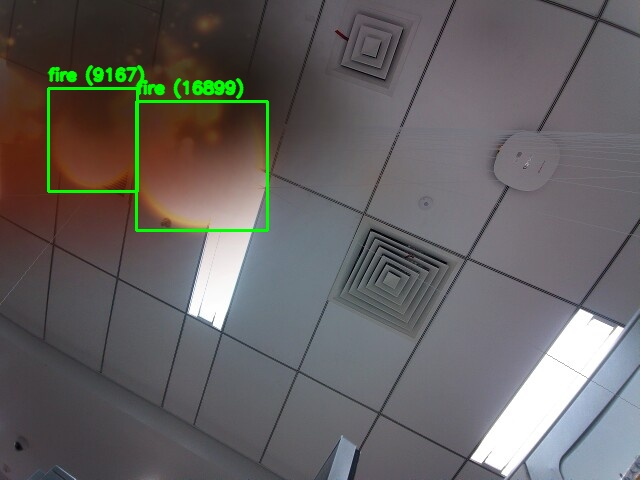fire: (136, 101, 267, 230), (48, 88, 137, 191)
